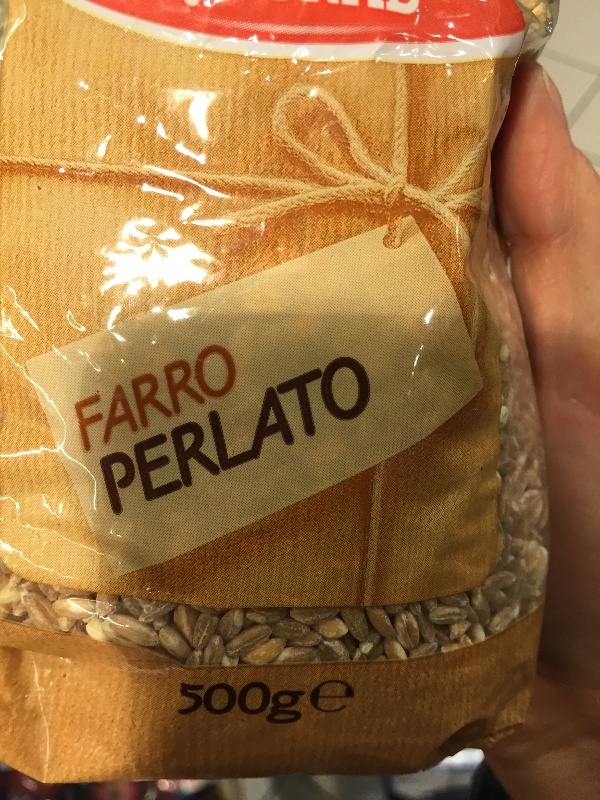text: (113, 344, 128, 519), (129, 344, 144, 519), (145, 344, 160, 519), (161, 344, 176, 519), (177, 344, 192, 519), (193, 344, 208, 519), (209, 344, 224, 519), (225, 344, 240, 519), (241, 344, 256, 519), (257, 344, 272, 519), (273, 344, 288, 519), (289, 344, 304, 519), (305, 344, 320, 519), (321, 344, 336, 519), (337, 344, 352, 519), (353, 344, 368, 519), (99, 344, 112, 519), (81, 338, 96, 456), (97, 338, 112, 456), (113, 338, 128, 456), (129, 338, 144, 456), (145, 338, 160, 456), (161, 338, 176, 456), (177, 338, 192, 456), (193, 338, 208, 456), (209, 338, 224, 456), (225, 338, 240, 456), (369, 344, 377, 519), (289, 684, 305, 728), (193, 684, 208, 728), (209, 684, 224, 728), (225, 684, 240, 728), (241, 684, 256, 728), (257, 684, 272, 728), (273, 684, 288, 728), (321, 678, 336, 718), (337, 678, 352, 718), (75, 338, 80, 456), (181, 684, 192, 728), (313, 678, 320, 718), (241, 338, 243, 456), (353, 678, 357, 718)
